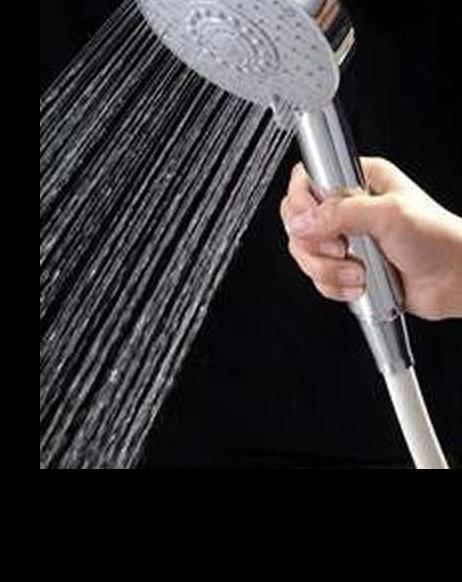Ducha: (40, 0, 462, 468)
